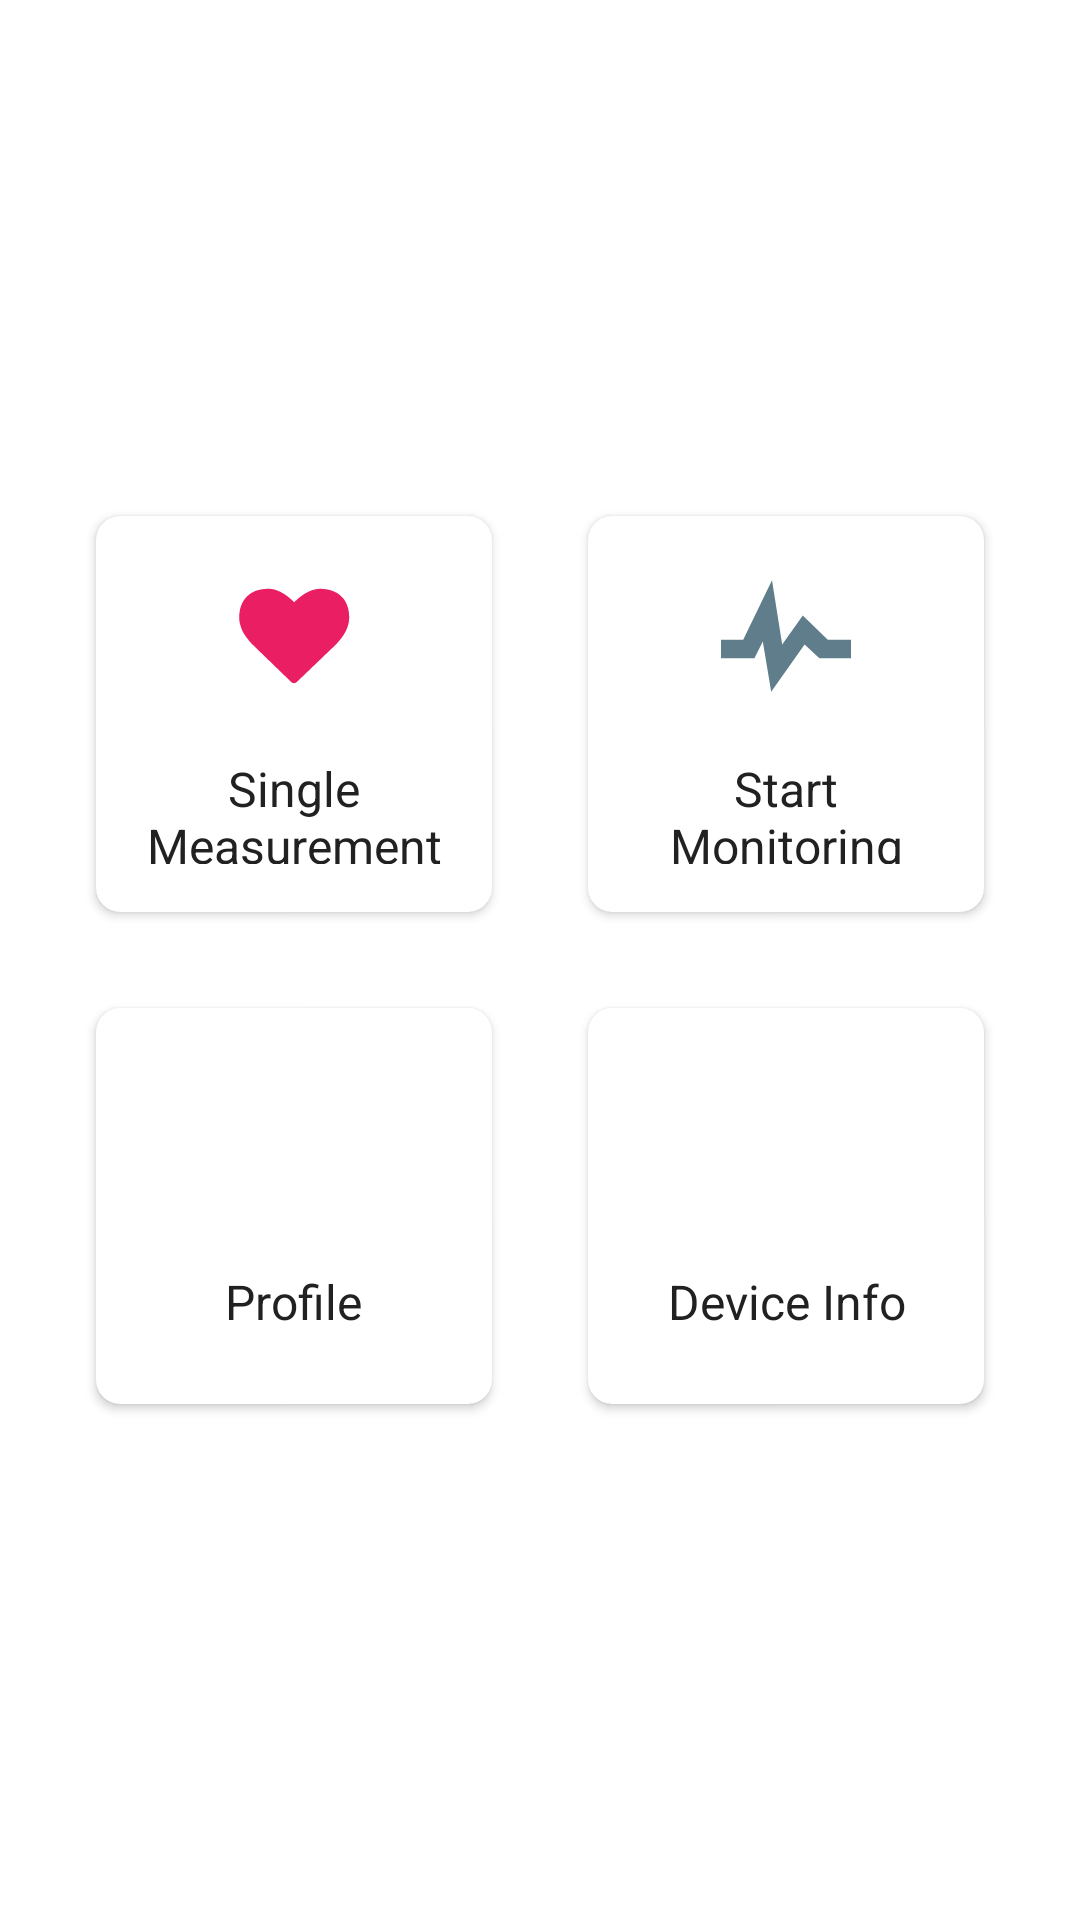

Named icons in this screenshot (1080px×1920px) and their centers, (x,y):
heart one: (294,635)
pulse: (786,636)
